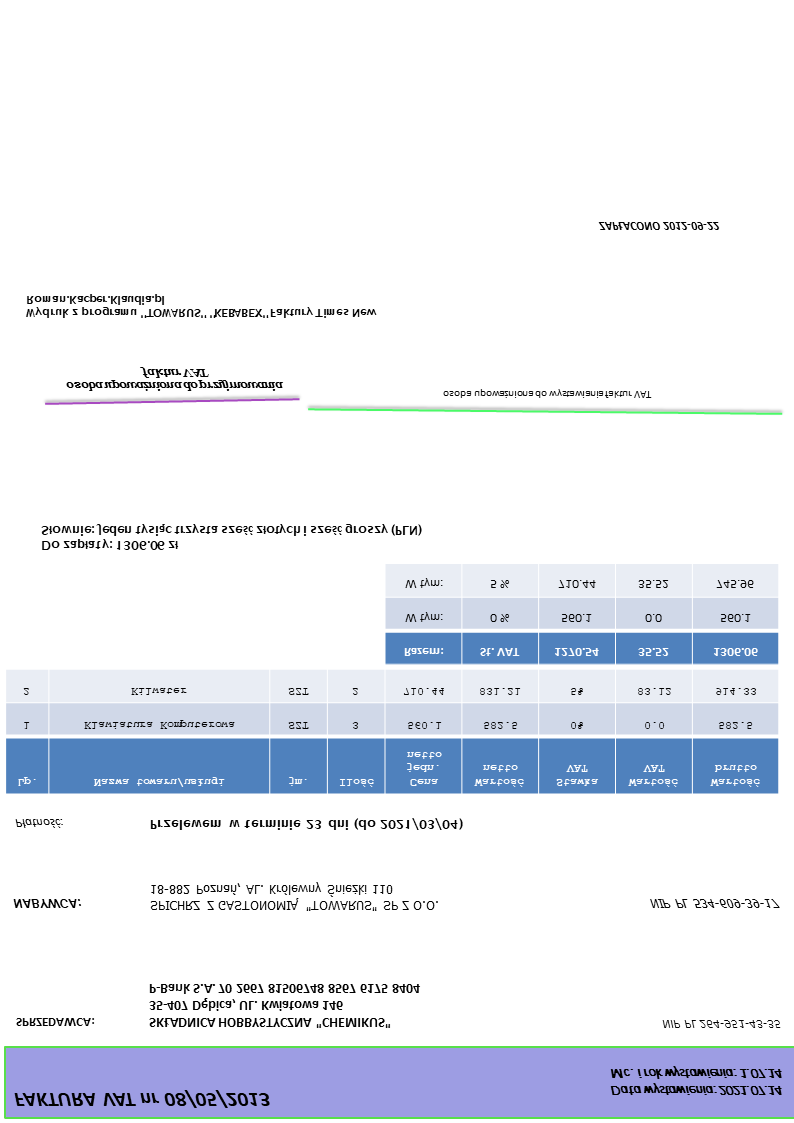Table: (3, 668, 779, 795), (384, 564, 780, 666)
TextBox: (146, 980, 423, 1032), (39, 521, 424, 553), (23, 291, 378, 321), (147, 882, 442, 914), (607, 1064, 784, 1099), (11, 1087, 272, 1110), (65, 367, 285, 394), (148, 816, 465, 833), (441, 386, 652, 401), (596, 217, 720, 235), (648, 895, 780, 911), (660, 1017, 781, 1032), (13, 1014, 97, 1030), (11, 895, 83, 912), (13, 816, 64, 831)
